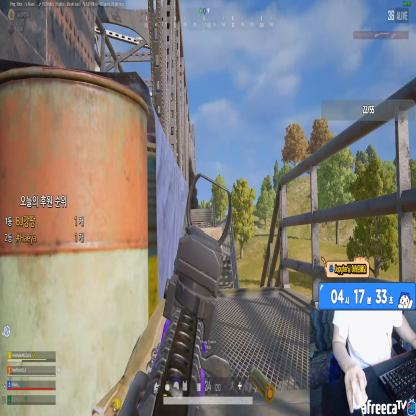streamer: (331, 311, 416, 412)
